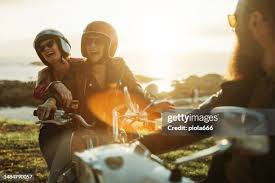motorcycle: (70, 106, 268, 183), (33, 82, 163, 183)
